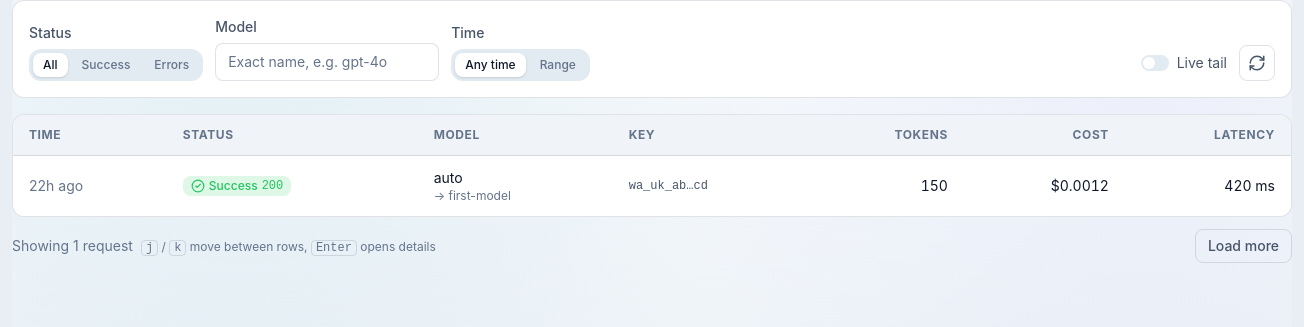
Test: RequestLogsPage › loads the next page with the cursor from the previous response
The width and height of the screenshot is (1304, 327).
Check: the text "first-model" is shown, box [448,188,511,203]
Step 1. Click the button "Load more" → (1243,246), box [1195,229,1292,263]
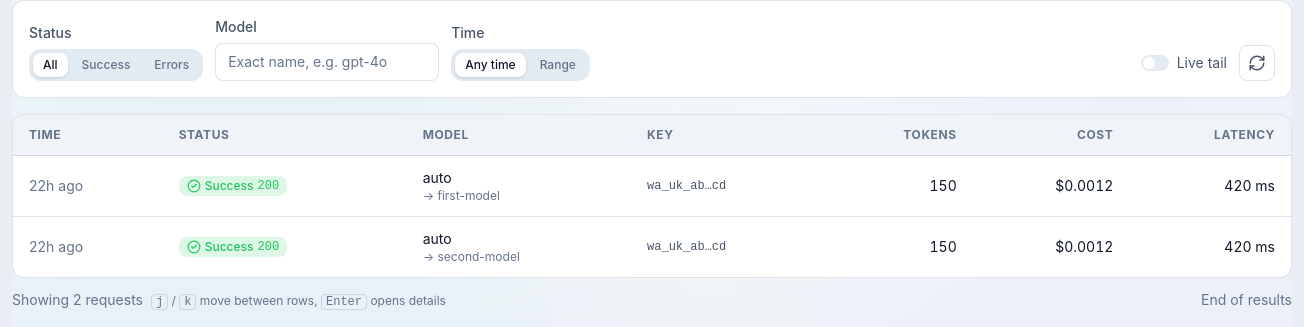
Check: the text "second-model" is shown, box [438,249,520,264]
Check: the button "Load more" is gone
Check: the text "End of results" is shown, box [1201,290,1292,310]
